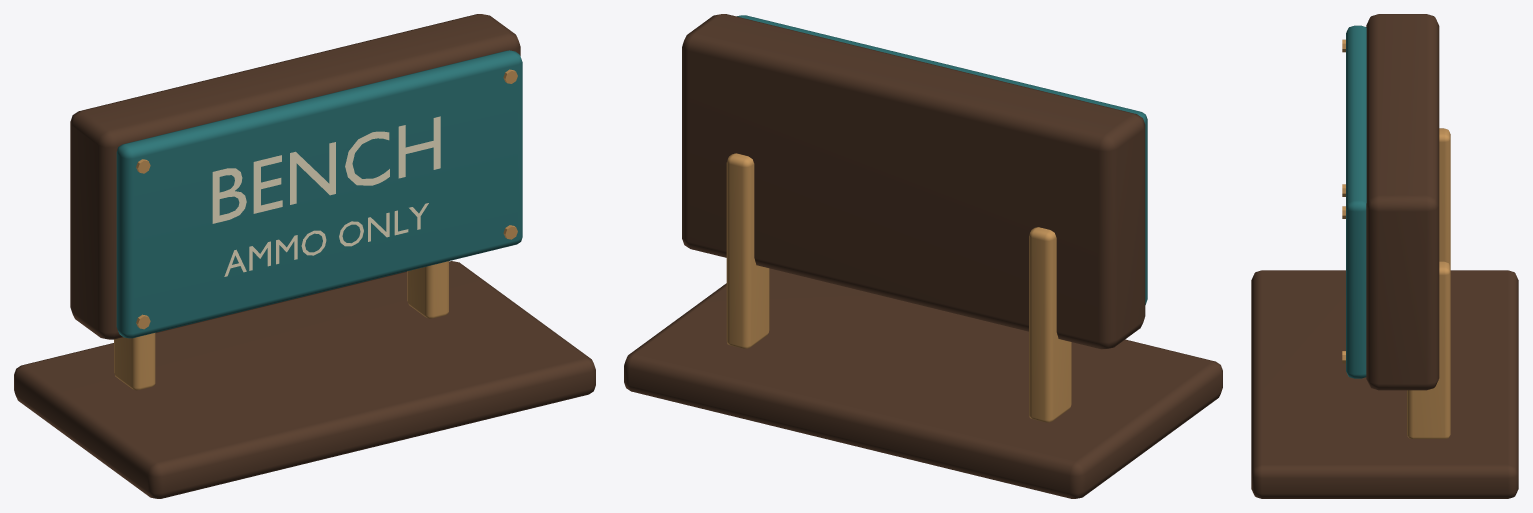
File: w2b-rook-bench-placard.glb
3 views of the same model, side by side, from view 1: azimuth 30°, elevation 25°; view 2: azimuth 150°, elevation 25°; view 3: azimuth 270°, elevation 25° (orthographic). The views are drawn at different scales.
Parts seen in each view (by area): view 1: Fixture | Forge | Ebonised oak, Replaceable face | Bench | Petrol green enamel, Replaceable face | Fixture | Linen enamel lettering, Fixture | Fixture | Brushed brass; view 2: Fixture | Forge | Ebonised oak, Fixture | Fixture | Brushed brass, Replaceable face | Bench | Petrol green enamel; view 3: Fixture | Forge | Ebonised oak, Replaceable face | Bench | Petrol green enamel, Fixture | Fixture | Brushed brass.
Part boxes in pixels (x1,y1,x2,y2): Fixture | Forge | Ebonised oak: [14, 14, 595, 498]; Replaceable face | Bench | Petrol green enamel: [116, 50, 522, 338]; Replaceable face | Fixture | Linen enamel lettering: [212, 116, 440, 276]; Fixture | Fixture | Brushed brass: [114, 69, 517, 390]; Fixture | Forge | Ebonised oak: [624, 14, 1222, 498]; Fixture | Fixture | Brushed brass: [726, 153, 1071, 422]; Replaceable face | Bench | Petrol green enamel: [737, 15, 1147, 304]; Fixture | Forge | Ebonised oak: [1251, 14, 1518, 498]; Replaceable face | Bench | Petrol green enamel: [1346, 25, 1366, 378]; Fixture | Fixture | Brushed brass: [1342, 39, 1450, 438].
Size of the model in its own units: 0.46 by 0.314 by 0.256.
